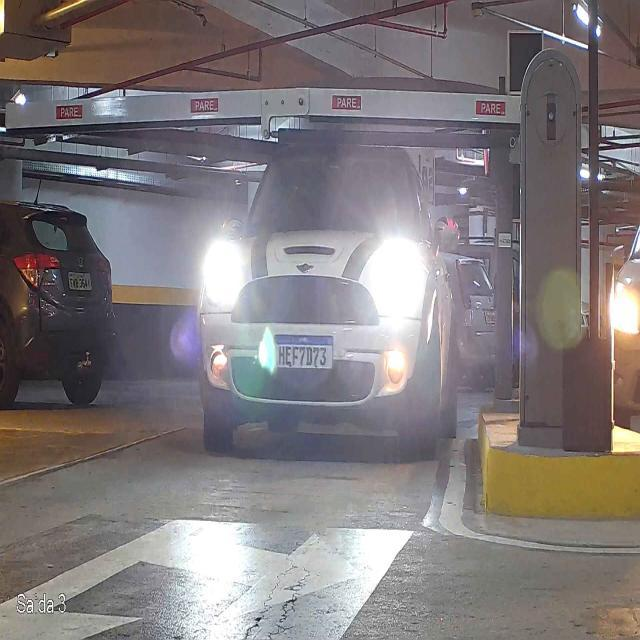mercosul_plate: (269, 334, 334, 371)
